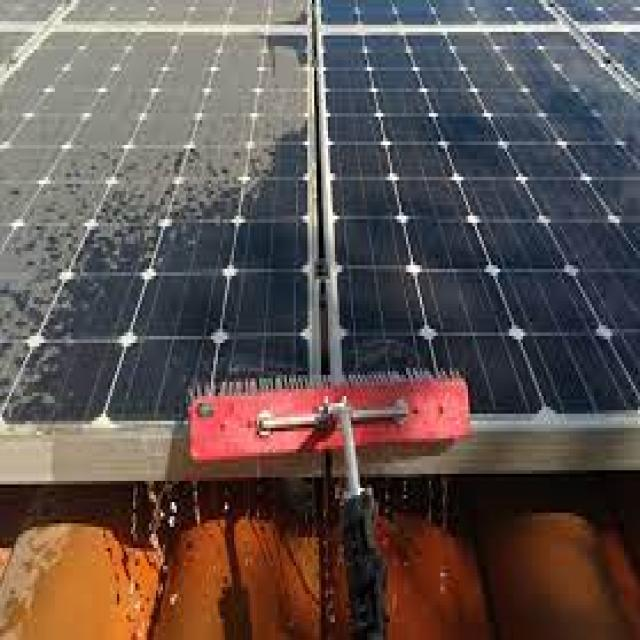clean-solar-panel: (324, 0, 640, 442)
dust-solar-panel: (1, 0, 306, 418)
